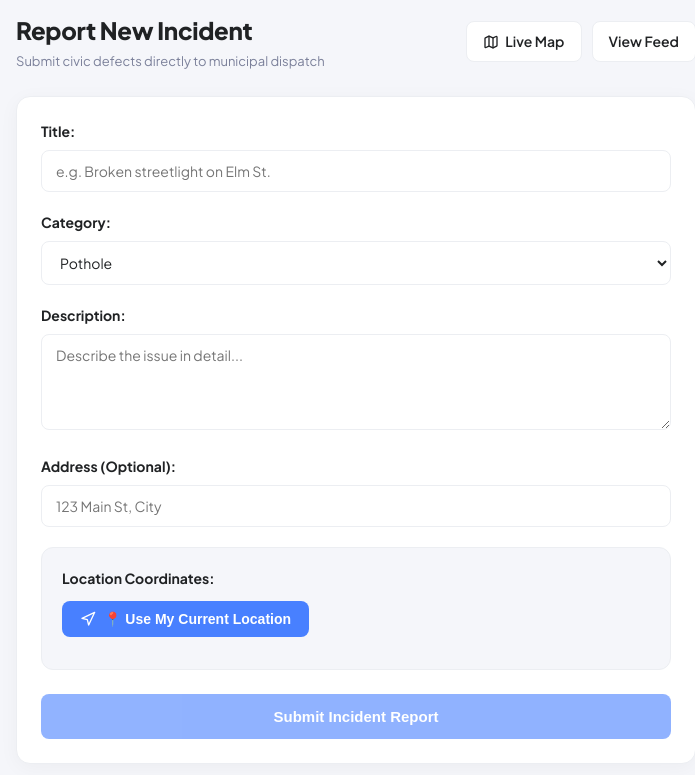
Test: IncidentForm Component › handles geolocation permission denial gracefully
Step 1. Click the button "📍 Use My Current Location" → (186, 618), box [62,600,309,636]
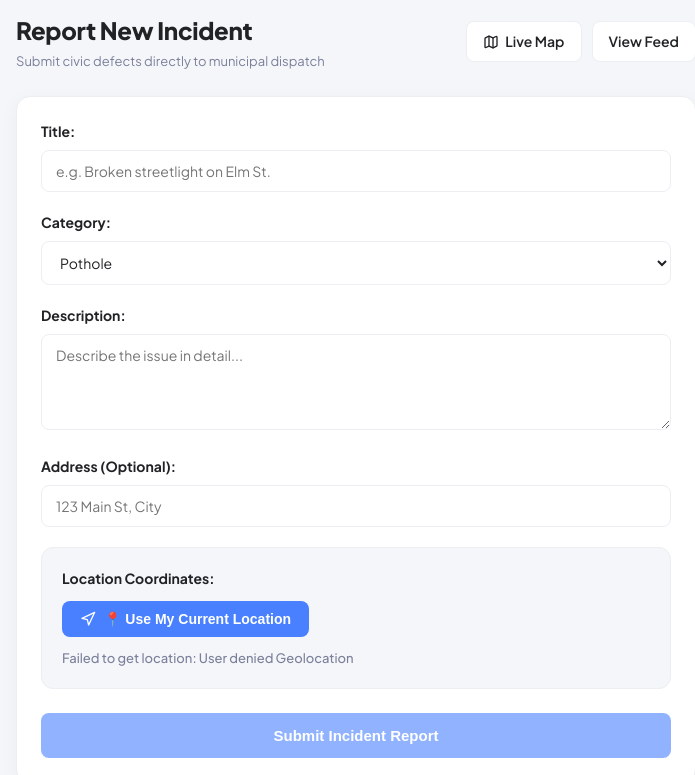
Check: the text "Failed to get location: User denied Geolocation" is shown, box [62,650,354,666]
